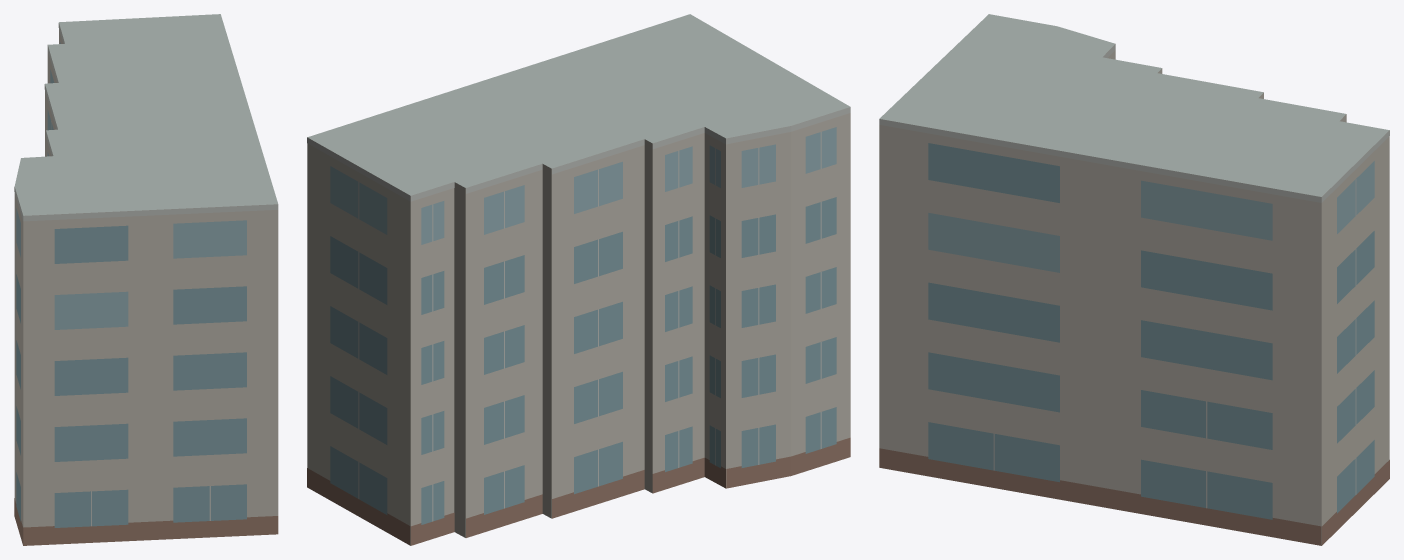
File: survey-upis-32654756.glb
3 views of the same model, side by side, from view 1: azimuth 30°, elevation 25°; view 2: azimuth 150°, elevation 25°; view 3: azimuth 270°, elevation 25° (orthographic). The views are drawn at different scales.
Parts seen in each view (by area): view 1: survey-upis-32654756.tmp; view 2: survey-upis-32654756.tmp; view 3: survey-upis-32654756.tmp.
Part boxes in pixels (x1,y1,x2,y2): survey-upis-32654756.tmp: (14,14,278,545); survey-upis-32654756.tmp: (307,14,850,545); survey-upis-32654756.tmp: (879,14,1389,545).
Size of the model in its own units: 16.22 by 14.4 by 19.11.
